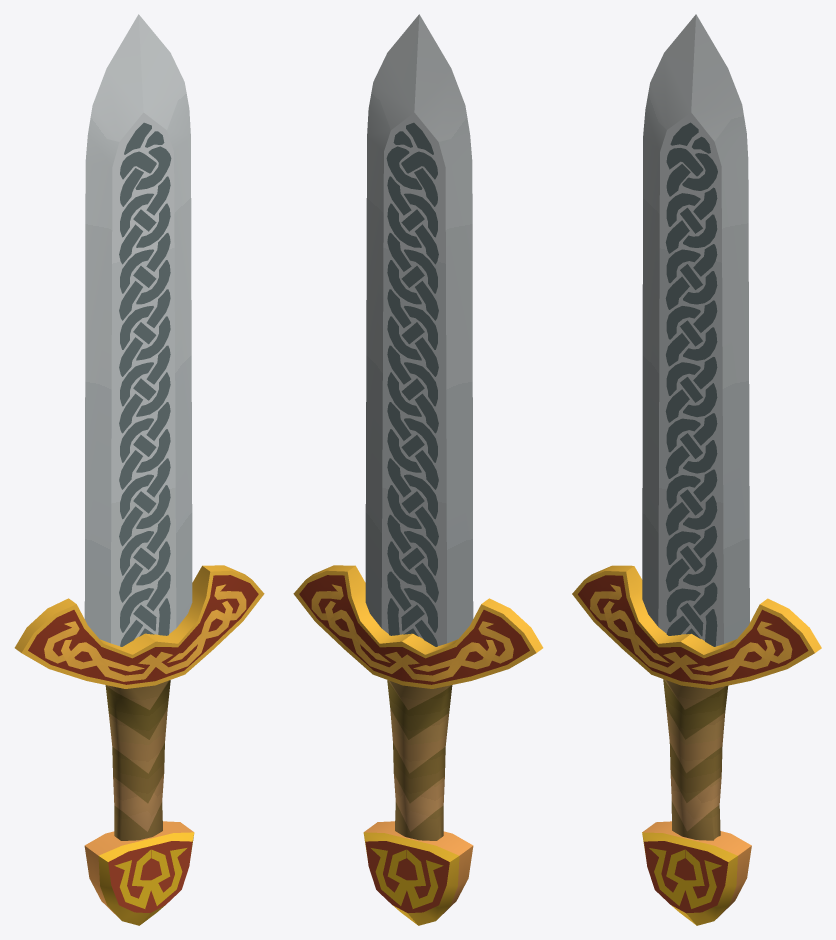
Rendered from 27-Pattern.glb.
3 renders of one model, left to right at view 1: azimuth 30°, elevation 25°; view 2: azimuth 150°, elevation 25°; view 3: azimuth 330°, elevation 25°, orthographic.
Parts seen in each view (by area): view 1: s, 3, 2, 4, 1; view 2: 1, 4, 5, 3, s; view 3: s, 2, 3, 5, 1.
Boxes of the visible parts, box(x1,y1,x2,y2) form: s: box(84, 14, 192, 840); 3: box(18, 584, 246, 925); 2: box(44, 568, 264, 924); 4: box(14, 598, 117, 913); 1: box(105, 685, 118, 838); 1: box(365, 14, 473, 840); 4: box(311, 584, 539, 925); 5: box(293, 568, 513, 924); 3: box(440, 598, 543, 913); s: box(439, 685, 452, 838); s: box(642, 14, 749, 840); 2: box(590, 584, 818, 925); 3: box(572, 568, 792, 924); 5: box(716, 598, 821, 918); 1: box(715, 685, 728, 837).
Size of the model in its own units: 0.2927 by 1.05 by 0.069.
1 material, 1 textured.
